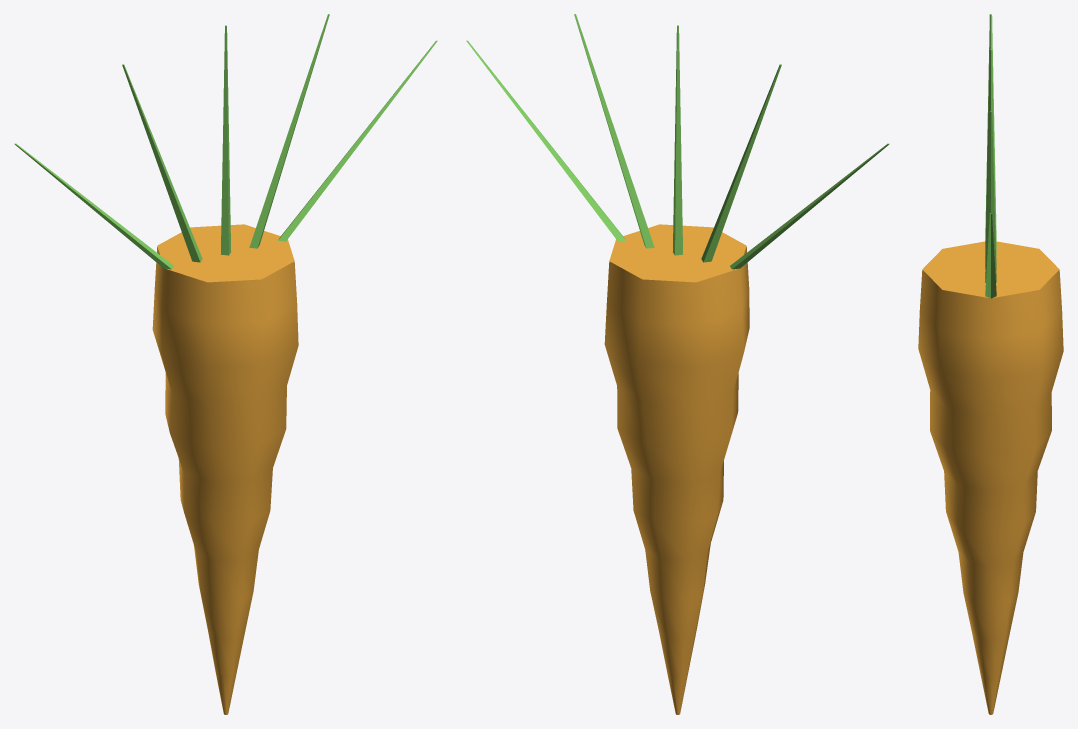
Rendered from carrot.fbx.
The picture shows the model from 3 angles, left to right: view 1: azimuth 30°, elevation 25°; view 2: azimuth 150°, elevation 25°; view 3: azimuth 270°, elevation 25°; orthographic projection. The views are drawn at different scales.
Parts seen in each view (by area): view 1: Carrot_Body, Stem_2, Stem_3, Stem_1, Stem_4, Stem_0; view 2: Carrot_Body, Stem_2, Stem_3, Stem_1, Stem_4, Stem_0; view 3: Carrot_Body, Stem_3, Stem_2, Stem_4, Stem_1.
Boxes of the visible parts, left/top/right/bottom form: Carrot_Body: left=152, top=224, right=298, bottom=714; Stem_2: left=220, top=25, right=230, bottom=255; Stem_3: left=249, top=14, right=329, bottom=248; Stem_1: left=122, top=64, right=202, bottom=262; Stem_4: left=278, top=40, right=437, bottom=241; Stem_0: left=14, top=143, right=173, bottom=269; Carrot_Body: left=604, top=224, right=749, bottom=714; Stem_2: left=673, top=25, right=683, bottom=255; Stem_3: left=574, top=14, right=654, bottom=248; Stem_1: left=701, top=64, right=781, bottom=262; Stem_4: left=466, top=40, right=625, bottom=241; Stem_0: left=730, top=143, right=889, bottom=269; Carrot_Body: left=918, top=241, right=1063, bottom=714; Stem_3: left=985, top=111, right=996, bottom=282; Stem_2: left=985, top=49, right=996, bottom=269; Stem_4: left=985, top=213, right=996, bottom=298; Stem_1: left=985, top=14, right=996, bottom=255.
Size of the model in its own units: 81.8 by 127 by 25.19.
